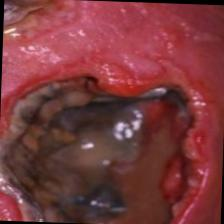wound-ulser: (0, 57, 224, 224), (2, 0, 84, 45)
